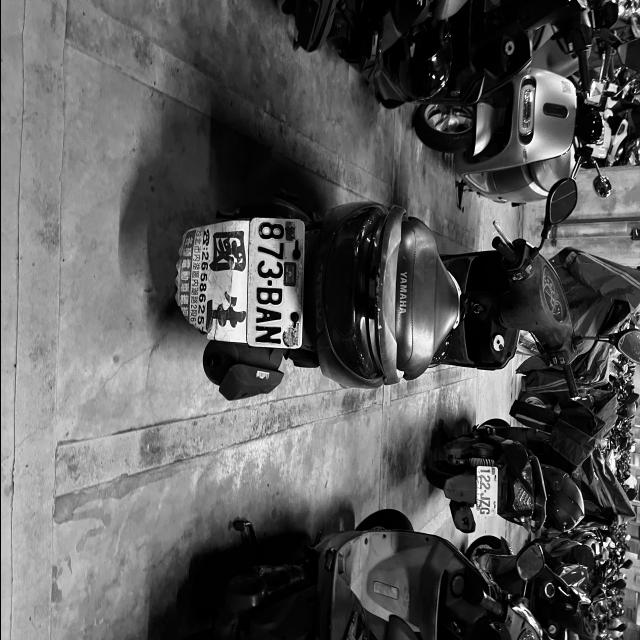-: (265, 280, 273, 286), (482, 490, 486, 492)
1: (478, 468, 491, 474)
2: (479, 474, 490, 482), (479, 482, 490, 490)
3: (254, 260, 286, 280)
7: (256, 242, 285, 260)
8: (256, 220, 286, 242)
A: (255, 307, 282, 323)
B: (255, 287, 286, 304)
G: (479, 508, 489, 514)
J: (480, 492, 490, 500)
N: (252, 325, 283, 343)
Z: (479, 500, 490, 508)
plate: (249, 220, 301, 345), (476, 467, 498, 515)
